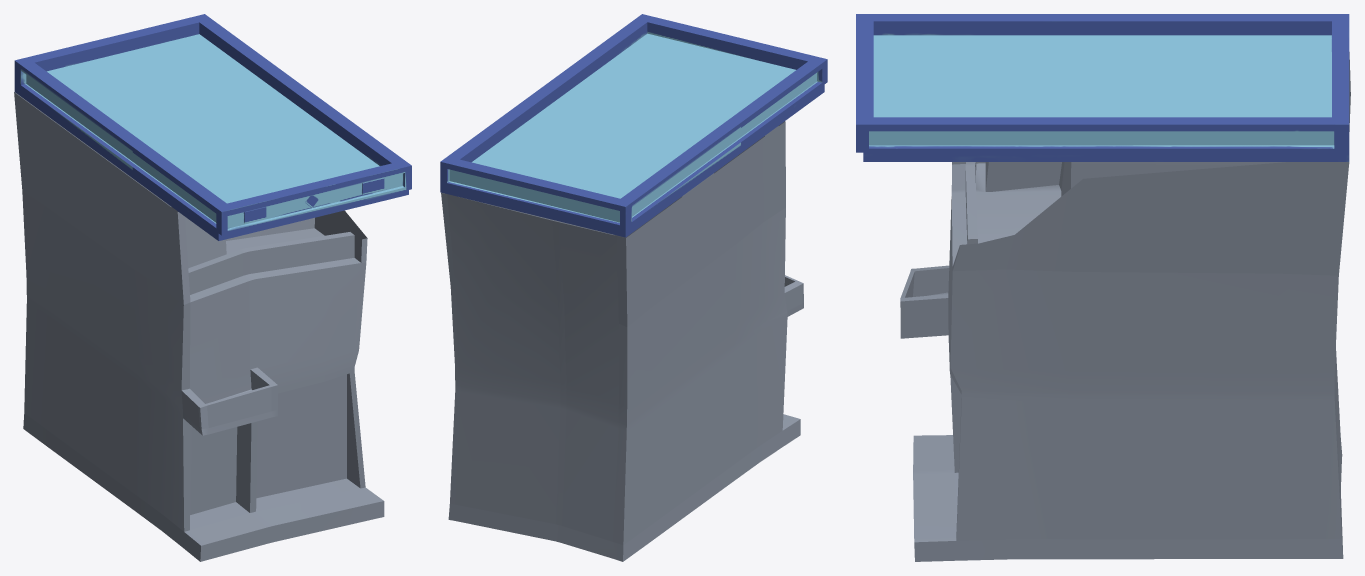
Rendered from destroyed building 1.fbx.
3 views of the same model, side by side, from view 1: azimuth 30°, elevation 25°; view 2: azimuth 150°, elevation 25°; view 3: azimuth 270°, elevation 25° (orthographic). The views are drawn at different scales.
Parts seen in each view (by area): view 1: immeuble_1:immeuble_4, toit_4:toiture_3_LD; view 2: immeuble_1:immeuble_4, toit_4:toiture_3_LD; view 3: immeuble_1:immeuble_4, toit_4:toiture_3_LD.
Boxes of the visible parts, x1,y1,x2,y2 form: immeuble_1:immeuble_4: [14, 92, 384, 561]; toit_4:toiture_3_LD: [14, 14, 411, 240]; immeuble_1:immeuble_4: [441, 121, 803, 561]; toit_4:toiture_3_LD: [440, 14, 827, 237]; immeuble_1:immeuble_4: [900, 52, 1350, 561]; toit_4:toiture_3_LD: [856, 14, 1349, 161].
Bounding box in the file's own units: 4302 × 7949 × 8118.
